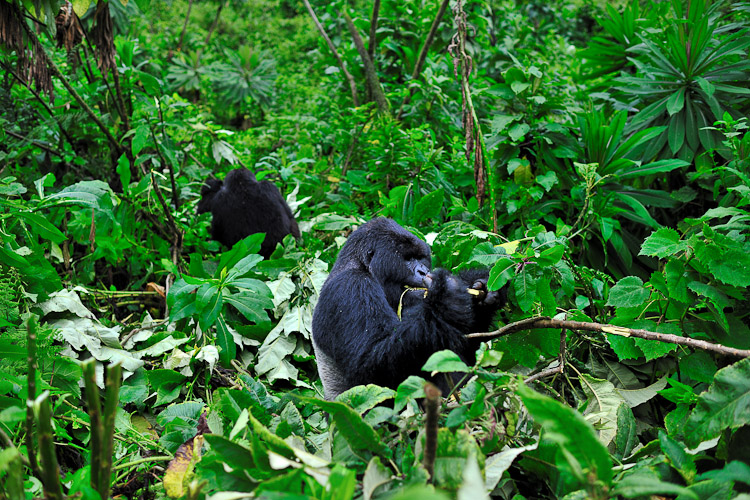Goriila: (320, 211, 517, 453)
